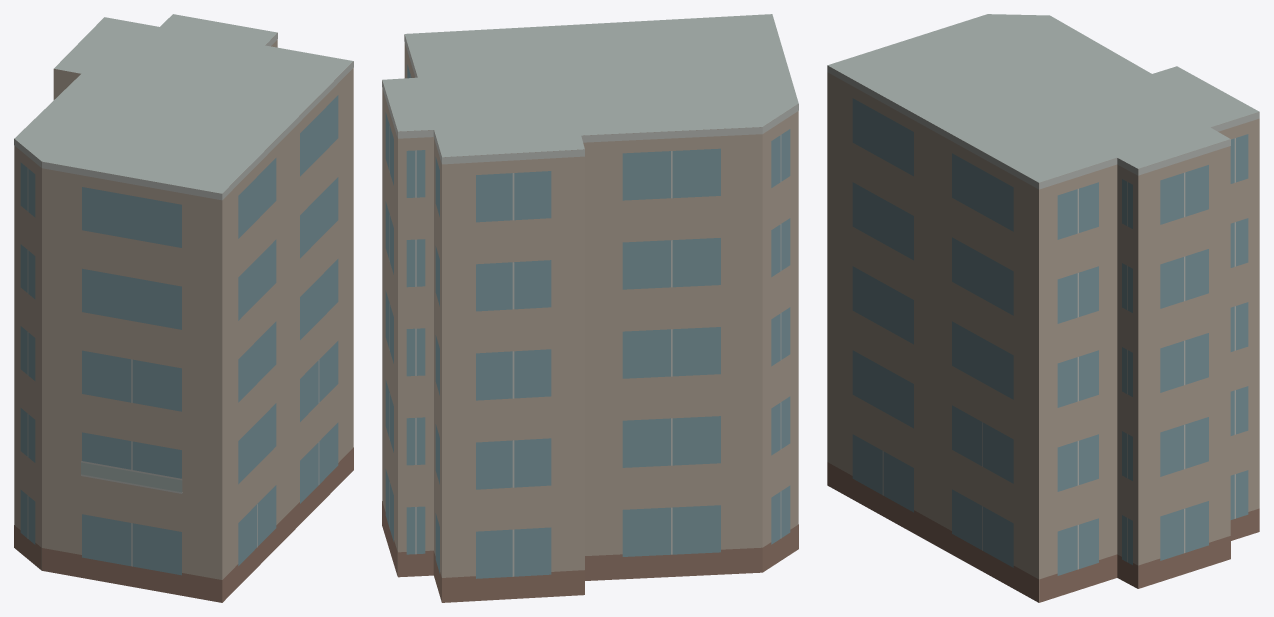
The model's file is survey-upis-32768123.glb.
3 renders of one model, left to right at view 1: azimuth 30°, elevation 25°; view 2: azimuth 150°, elevation 25°; view 3: azimuth 270°, elevation 25°, orthographic. The views are drawn at different scales.
Parts seen in each view (by area): view 1: survey-upis-32768123.tmp; view 2: survey-upis-32768123.tmp; view 3: survey-upis-32768123.tmp.
Boxes of the visible parts, x1,y1,x2,y2 form: survey-upis-32768123.tmp: (14,14,353,602); survey-upis-32768123.tmp: (382,14,798,602); survey-upis-32768123.tmp: (827,14,1259,602).
Size of the model in its own units: 13.02 by 15.1 by 14.09.
